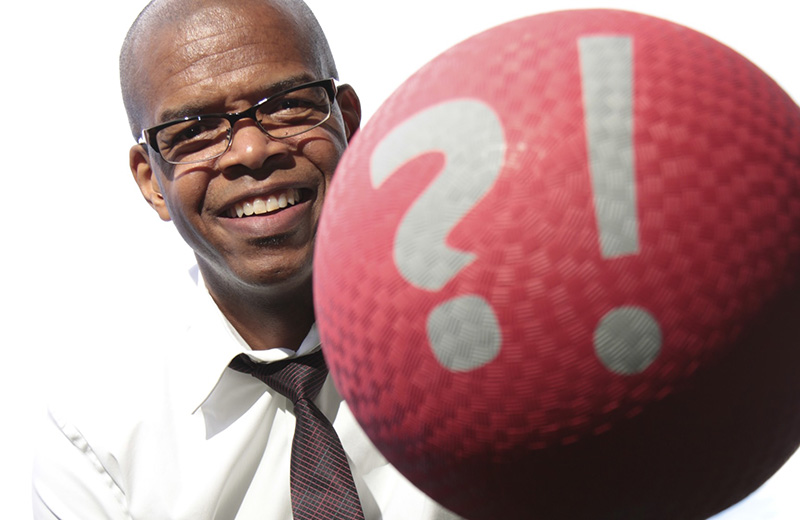red ball: (312, 7, 799, 520)
